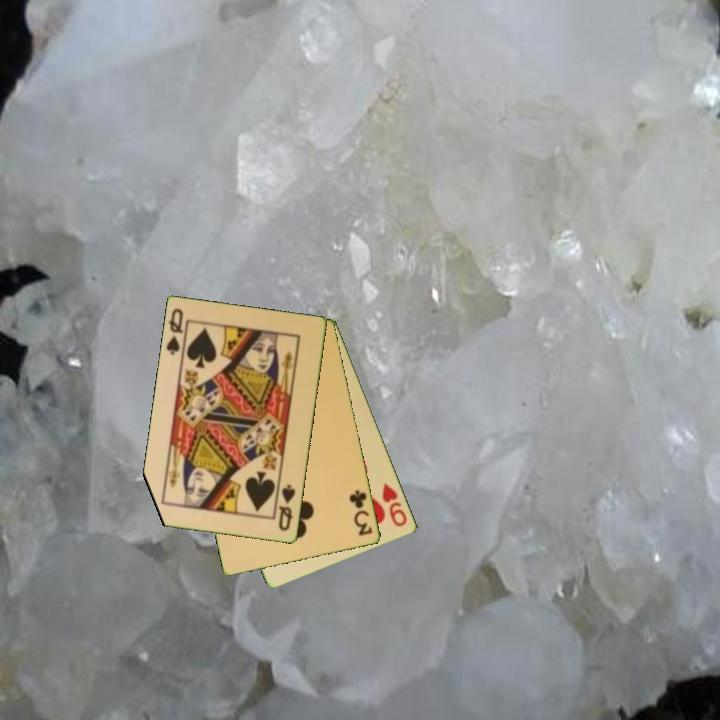3c: (346, 487, 375, 539)
9h: (379, 480, 410, 530)
Qs: (275, 481, 298, 534), (163, 305, 186, 358)
